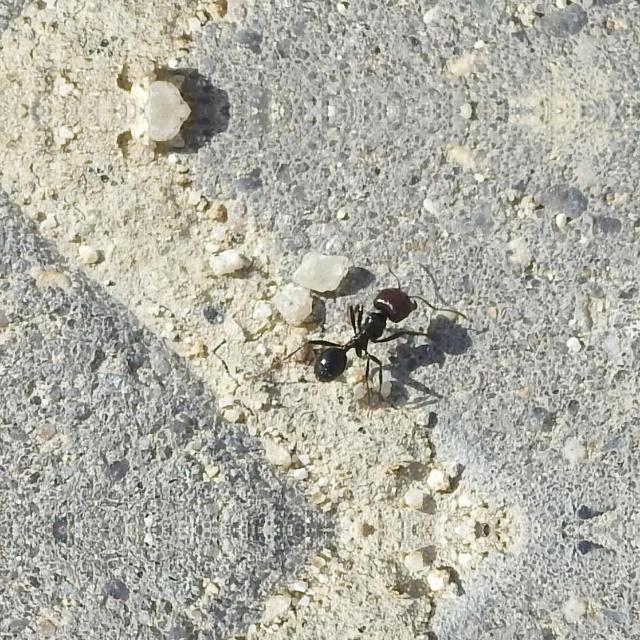Messor: (307, 276, 423, 388)
